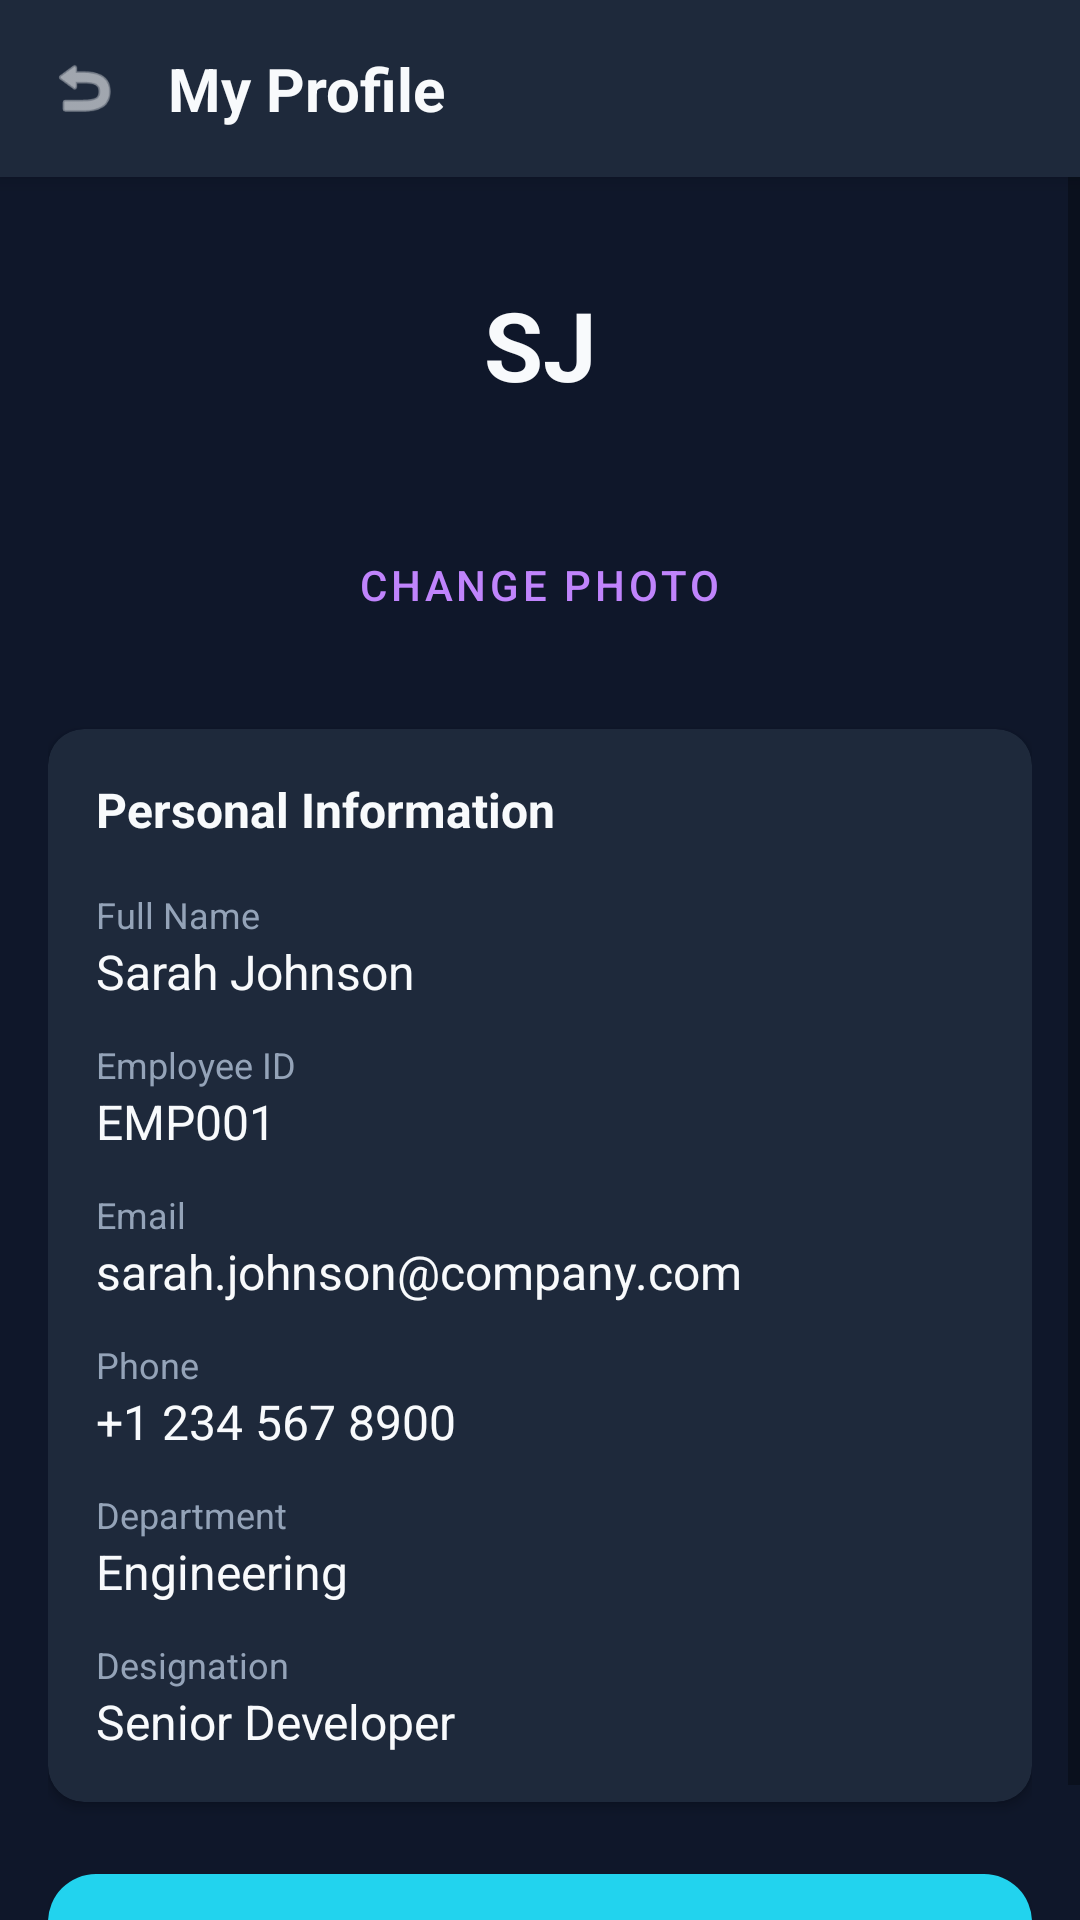

Screen size 1080×1920. Icon name, then its center in pixels as point (x, y):
revert: point (85, 88)
